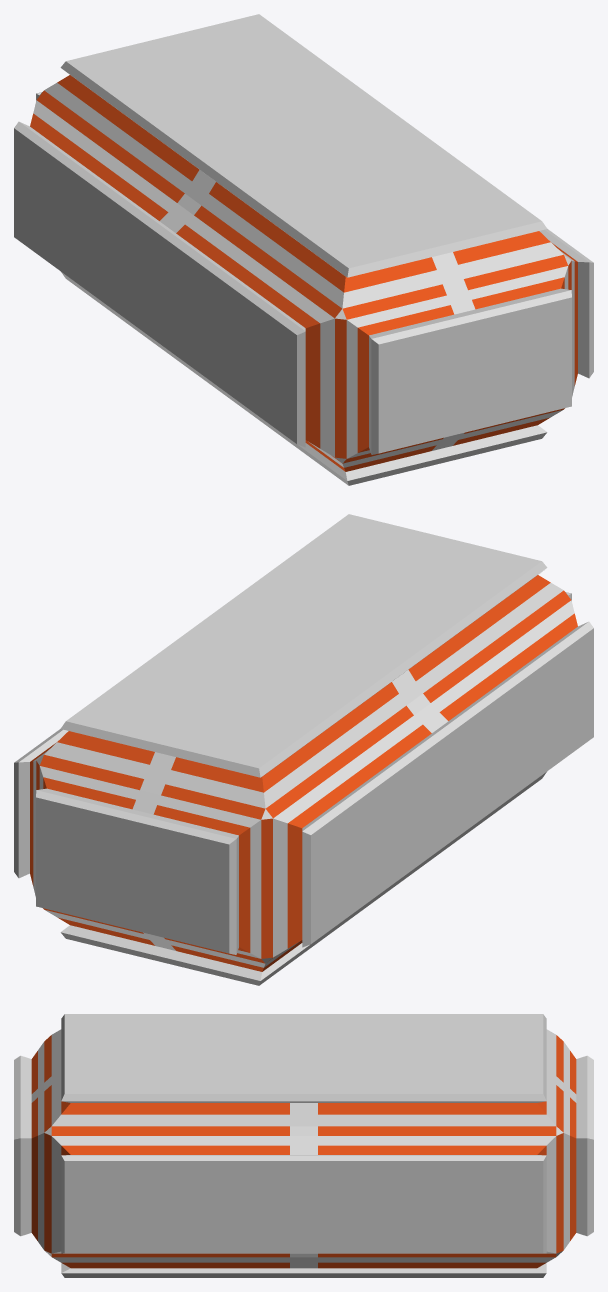
The picture shows the model from 3 angles, top to bottom: view 1: azimuth 30°, elevation 25°; view 2: azimuth 150°, elevation 25°; view 3: azimuth 270°, elevation 25°; orthographic projection. The views are drawn at different scales.
Parts seen in each view (by area): view 1: Cube.001; view 2: Cube.001; view 3: Cube.001.
Boxes of the visible parts, box(x1,y1,x2,y2) form: Cube.001: box(14, 14, 593, 485); Cube.001: box(14, 514, 593, 985); Cube.001: box(14, 1014, 593, 1277).
Size of the model in its own units: 200 by 140 by 400.
